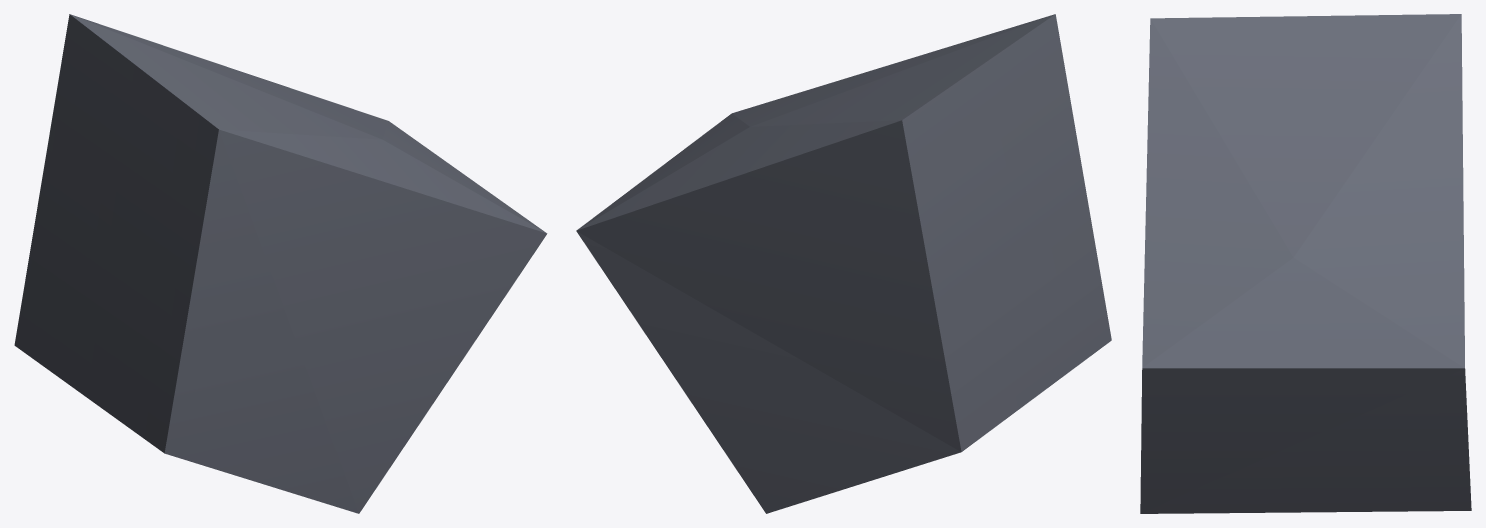
The model's file is Ruins_07.fbx.
3 renders of one model, left to right at view 1: azimuth 30°, elevation 25°; view 2: azimuth 150°, elevation 25°; view 3: azimuth 270°, elevation 25°, orthographic. The views are drawn at different scales.
Visible parts, largest first — view 1: Ruins_07; view 2: Ruins_07; view 3: Ruins_07.
Part boxes in pixels (bbox=[...]): Ruins_07: bbox=[14, 14, 547, 513]; Ruins_07: bbox=[576, 14, 1111, 513]; Ruins_07: bbox=[1140, 14, 1471, 513].
Bounding box in the file's own units: 0.5211 × 0.5485 × 0.3808.
